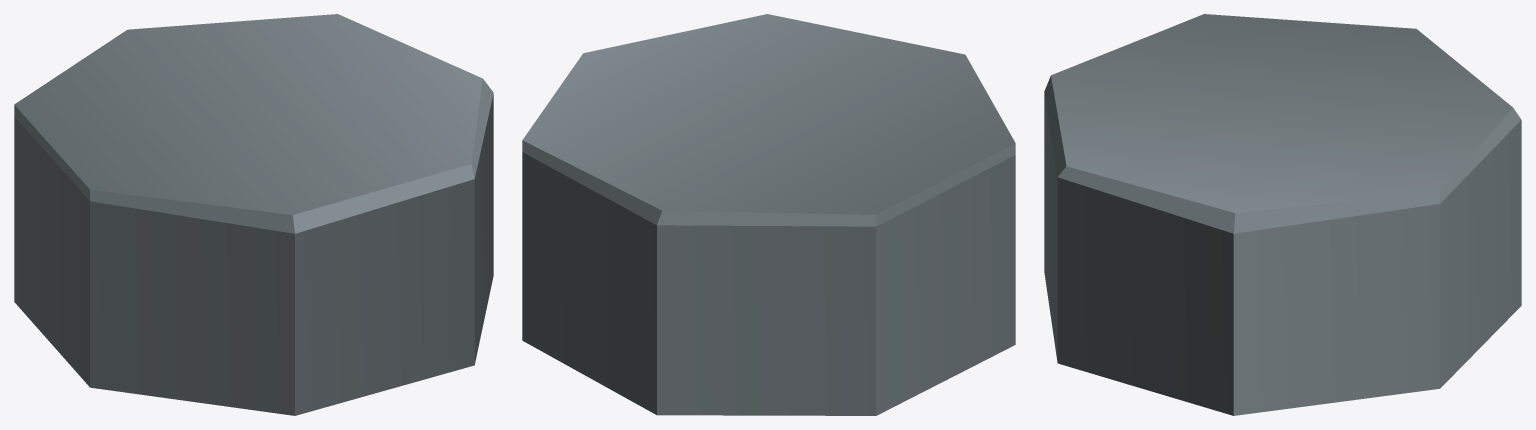
File: MONTAÑA PIEDRA.fbx
3 views of the same model, side by side, from view 1: azimuth 30°, elevation 25°; view 2: azimuth 150°, elevation 25°; view 3: azimuth 270°, elevation 25° (orthographic). The views are drawn at different scales.
Visible parts, largest first — view 1: sueloo.007; view 2: sueloo.007; view 3: sueloo.007.
Part boxes in pixels (x1,y1,x2,y2): sueloo.007: (14,14,493,415); sueloo.007: (522,14,1015,415); sueloo.007: (1044,14,1521,415).
Size of the model in its own units: 3430 by 3391 by 1553.
1 material, 1 textured.
